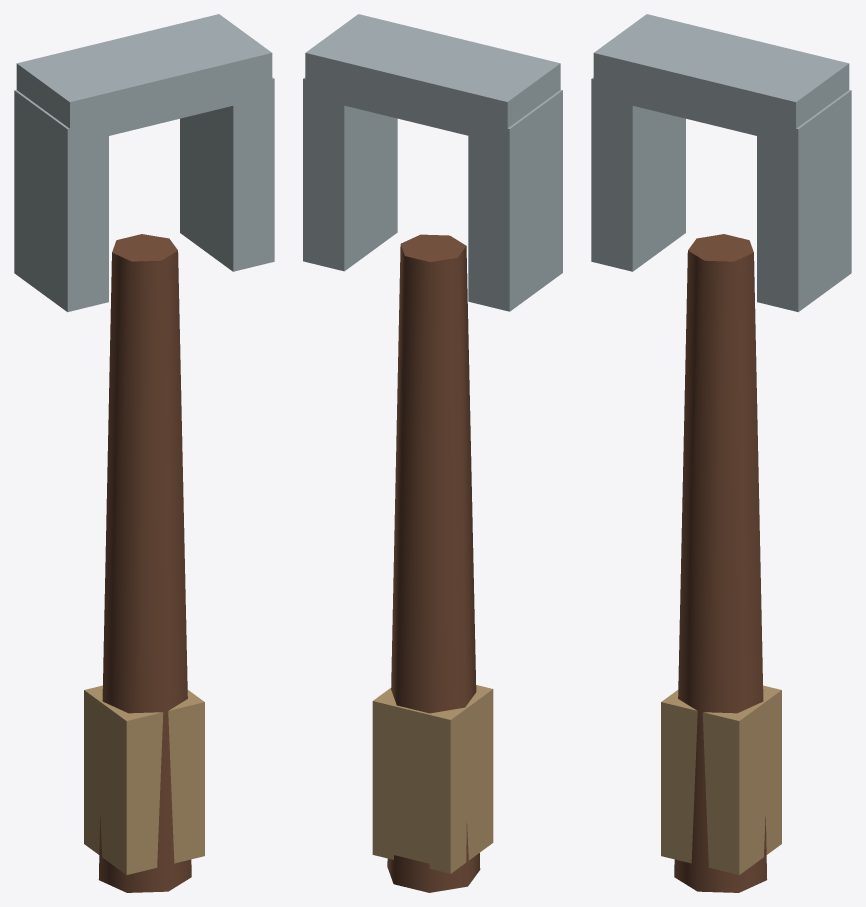
Rendered from wand-4.glb.
3 renders of one model, left to right at view 1: azimuth 30°, elevation 25°; view 2: azimuth 150°, elevation 25°; view 3: azimuth 330°, elevation 25°, orthographic.
Parts seen in each view (by area): view 1: piece_whole; view 2: piece_whole; view 3: piece_whole.
Boxes of the visible parts, left/top/right/bottom form: piece_whole: left=14, top=14, right=274, bottom=892; piece_whole: left=303, top=14, right=562, bottom=892; piece_whole: left=591, top=14, right=851, bottom=892.
Size of the model in its own units: 0.225 by 0.8475 by 0.1.
